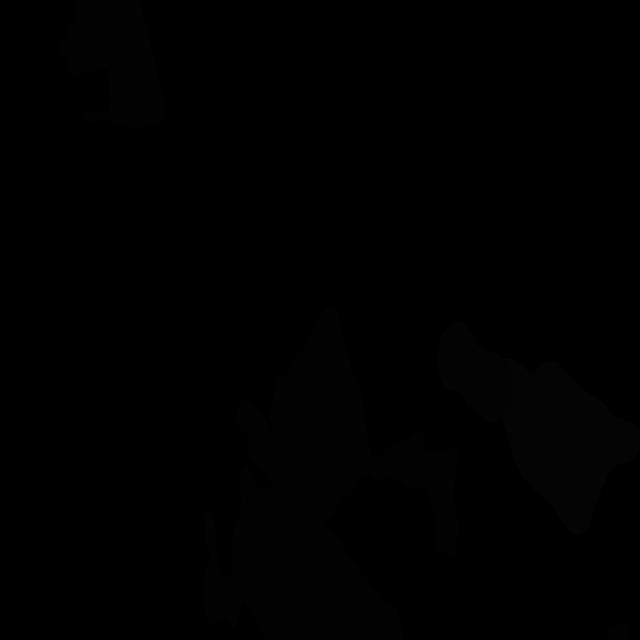cardboard: (270, 305, 460, 556), (203, 458, 403, 640), (60, 0, 166, 129), (236, 398, 316, 506), (605, 620, 630, 640)
metal: (437, 322, 512, 422)
soft_plastic: (502, 358, 640, 535)
